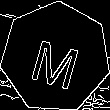M_N: (27, 26, 84, 88)
